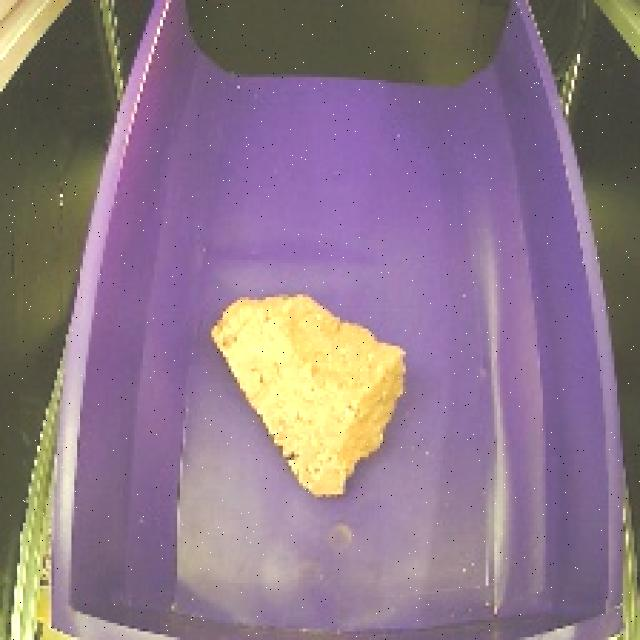brick: (205, 279, 413, 511)
